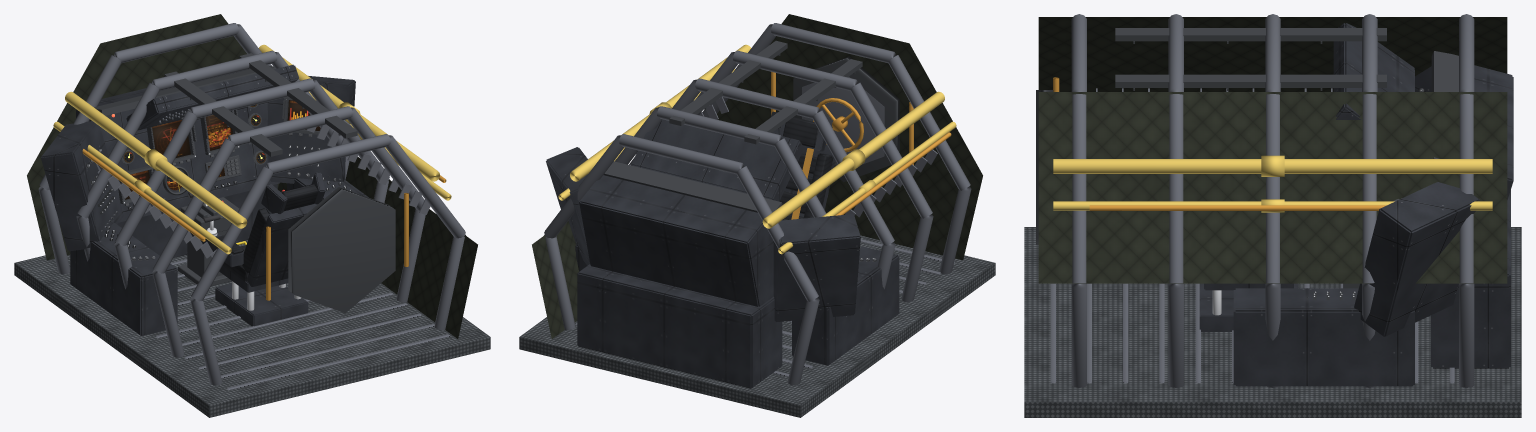
File: cockpit_cs17_stealth.glb
The picture shows the model from 3 angles, left to right: view 1: azimuth 30°, elevation 25°; view 2: azimuth 150°, elevation 25°; view 3: azimuth 270°, elevation 25°; orthographic projection. The views are drawn at different scales.
Visible parts, largest first — view 1: CS17_PressureHull_Ribs, CS17_Floor_Deck, CS17_Console_Cabinets, CS17_Quilted_Interior_Walls, Rear_PressureHatch_Frame, Seat_Armored_Frame, CS17_Overhead_Ducts_Cables, CS17_Light_Cages, CS17_Cryo_Heatsink_Fins, Seat_Ribbed_Cushions, CS17_Switch_Guards_And_Bezels, Throttle_Quadrant_Base (+4 smaller); view 2: CS17_Console_Cabinets, CS17_PressureHull_Ribs, CS17_Quilted_Interior_Walls, CS17_Floor_Deck, CS17_Overhead_Ducts_Cables, CS17_Light_Cages, CS17_Switch_Guards_And_Bezels, Rear_PressureHatch_Door, Rear_PressureHatch_Frame, Seat_Ribbed_Cushions, Rear_PressureHatch_Wheel_Rails, CS17_Cryo_Heatsink_Fins (+2 smaller); view 3: CS17_Quilted_Interior_Walls, CS17_Console_Cabinets, CS17_Floor_Deck, CS17_PressureHull_Ribs, CS17_Overhead_Ducts_Cables, CS17_Light_Cages, Seat_Armored_Frame, CS17_ZeroG_GrabRails, CS17_Switch_Guards_And_Bezels, Rear_PressureHatch_Frame.
Boxes of the visible parts, box(x1,y1,x2,y2) form: CS17_PressureHull_Ribs: box(38, 23, 465, 390); CS17_Floor_Deck: box(14, 240, 490, 417); CS17_Console_Cabinets: box(41, 64, 368, 335); CS17_Quilted_Interior_Walls: box(27, 14, 477, 338); Rear_PressureHatch_Frame: box(288, 187, 395, 313); Seat_Armored_Frame: box(200, 172, 325, 326); CS17_Overhead_Ducts_Cables: box(53, 44, 451, 254); CS17_Light_Cages: box(164, 53, 357, 156); CS17_Cryo_Heatsink_Fins: box(96, 115, 430, 258); Seat_Ribbed_Cushions: box(216, 184, 323, 281); CS17_Switch_Guards_And_Bezels: box(94, 65, 351, 248); Throttle_Quadrant_Base: box(178, 197, 239, 285); CS17_Console_Cabinets: box(546, 106, 899, 388); CS17_PressureHull_Ribs: box(544, 23, 971, 385); CS17_Quilted_Interior_Walls: box(532, 14, 982, 338); CS17_Floor_Deck: box(519, 235, 995, 417); CS17_Overhead_Ducts_Cables: box(558, 44, 956, 254); CS17_Light_Cages: box(669, 40, 862, 144); CS17_Switch_Guards_And_Bezels: box(603, 161, 782, 212); Rear_PressureHatch_Door: box(802, 77, 884, 165); Rear_PressureHatch_Frame: box(793, 56, 899, 182); Seat_Ribbed_Cushions: box(779, 117, 833, 220); Rear_PressureHatch_Wheel_Rails: box(771, 72, 913, 165); CS17_Cryo_Heatsink_Fins: box(629, 97, 937, 217); CS17_Quilted_Interior_Walls: box(1038, 17, 1507, 283); CS17_Console_Cabinets: box(1233, 23, 1513, 386); CS17_Floor_Deck: box(1024, 227, 1521, 417); CS17_PressureHull_Ribs: box(1050, 14, 1474, 387); CS17_Overhead_Ducts_Cables: box(1053, 155, 1492, 212); CS17_Light_Cages: box(1115, 28, 1386, 90); Seat_Armored_Frame: box(1199, 283, 1298, 331); CS17_ZeroG_GrabRails: box(1089, 205, 1386, 210); CS17_Switch_Guards_And_Bezels: box(1313, 51, 1458, 300); Rear_PressureHatch_Frame: box(1036, 90, 1053, 244).
Bounding box in the file's own units: 3.19 × 2.13 × 3.43.
28 materials, 13 textured.
